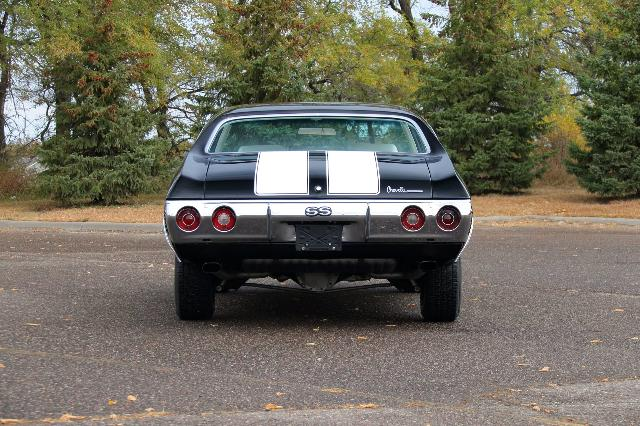chevelle-1972: (161, 98, 472, 326), (165, 101, 475, 322)
